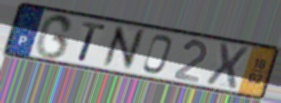0: (142, 34, 175, 75)
2: (171, 38, 210, 85)
G: (33, 13, 76, 61)
N: (100, 24, 147, 71)
T: (76, 20, 107, 64)
X: (203, 41, 251, 91)
